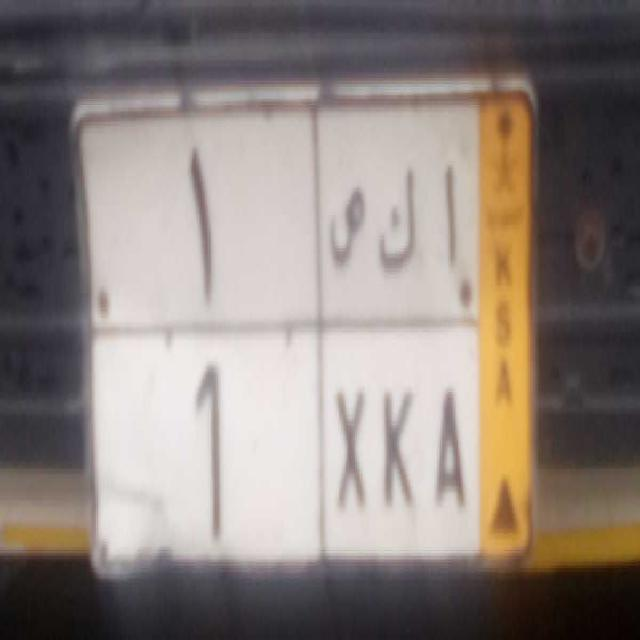license_plate: (91, 316, 481, 582)
